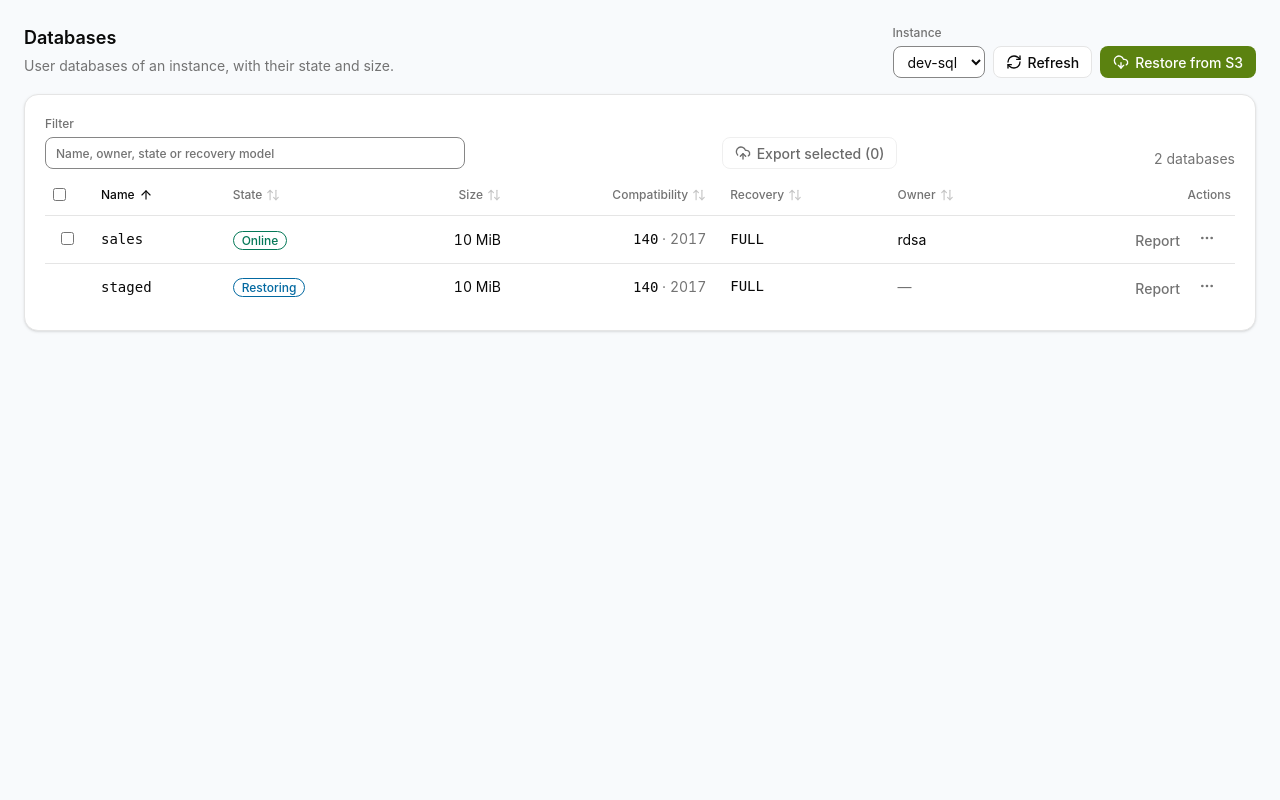
it: DatabasesPage actions › drops a database, then reloads the list and gives the focus back
Expected: the column heading "Actions" is shown, [1025,181,1235,215]
Click the button named "Actions for sales" at (1207, 238), box [1191,224,1223,252]
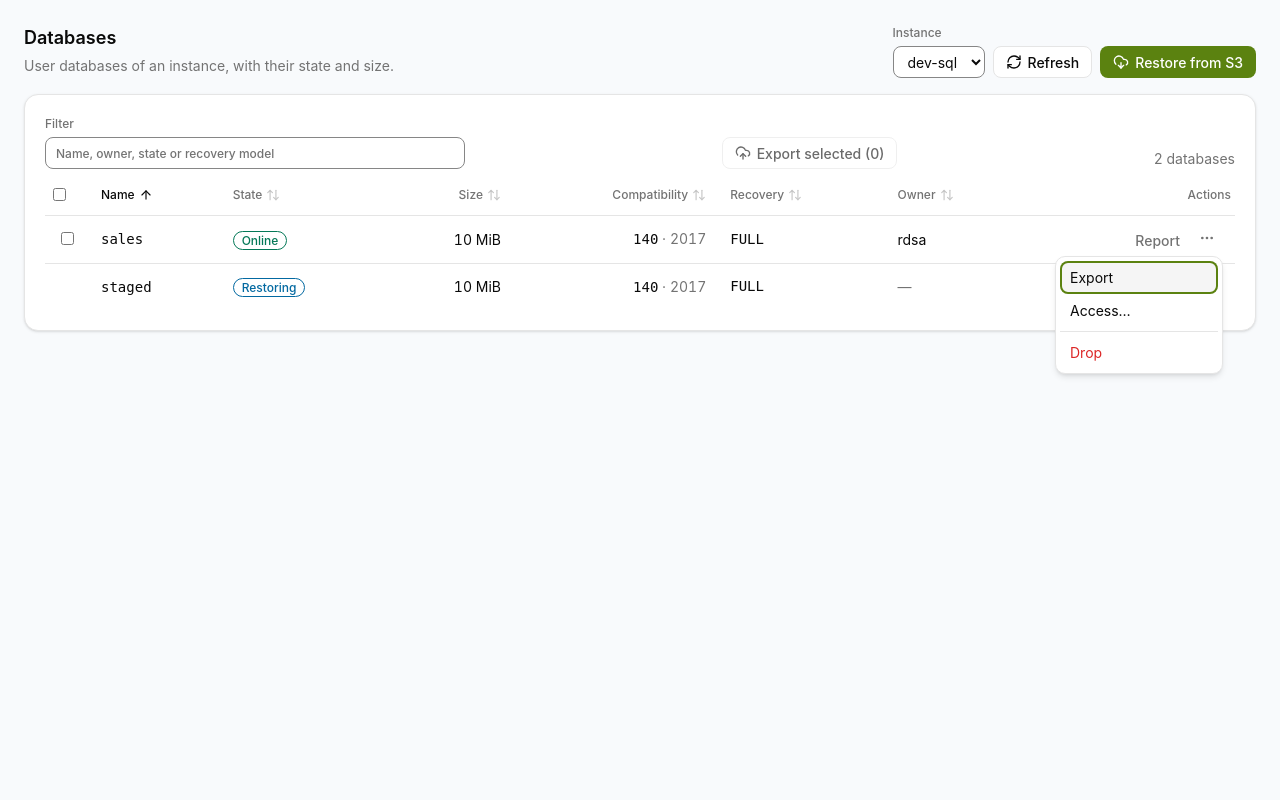
Now the menu is shown, box [1055,256,1223,374]
Click the menu item with aria-label "Drop sales" at (1139, 352), box [1060,336,1218,369]
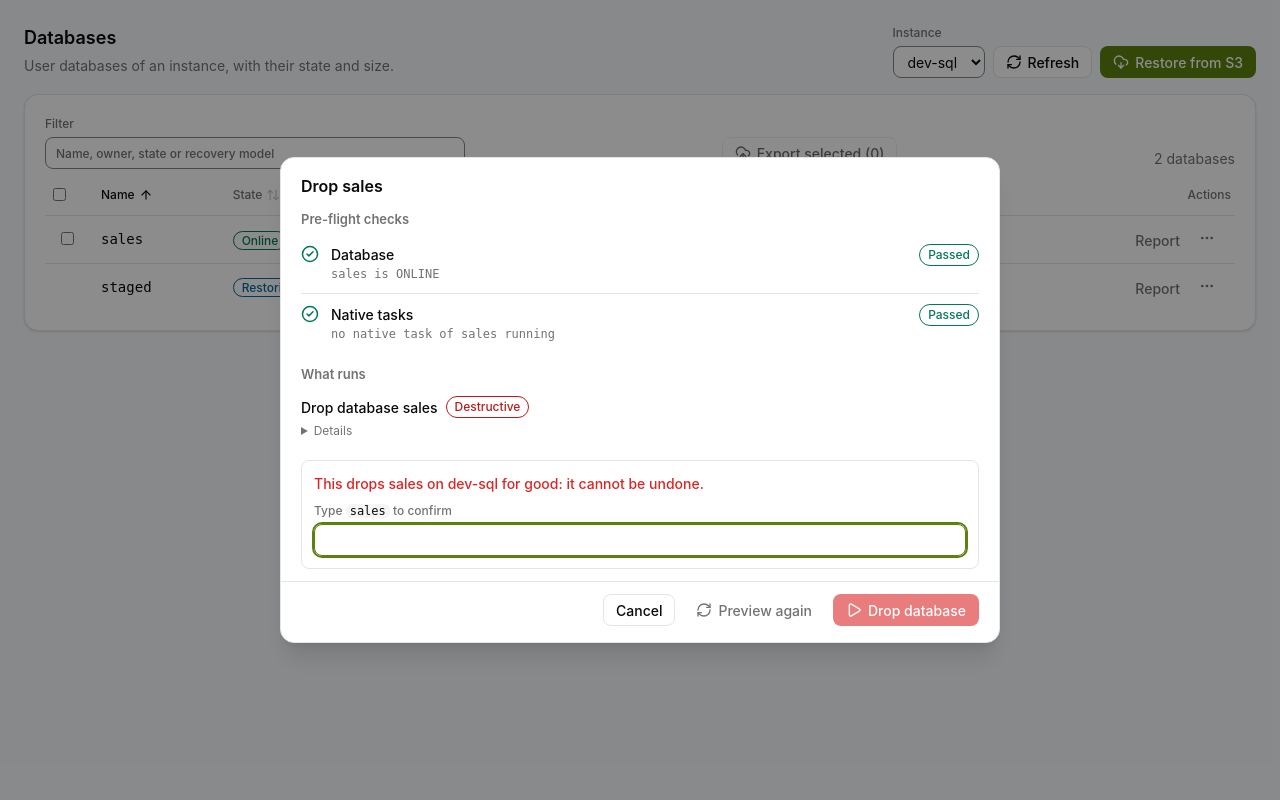
Type "sales" into the field labelled "Type sales to confirm" at (640, 540), box [314,524,966,556]
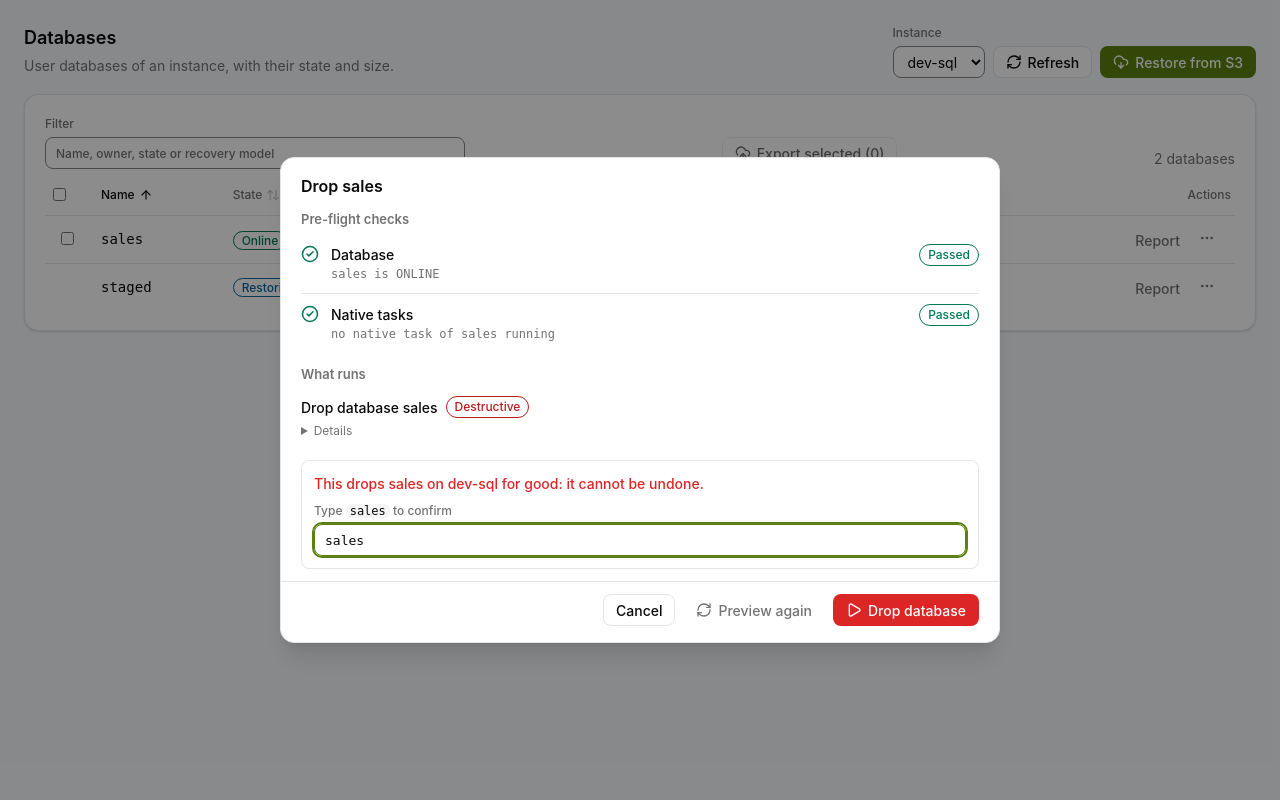
Click the button "Drop database" at (906, 610), box [833,594,979,626]
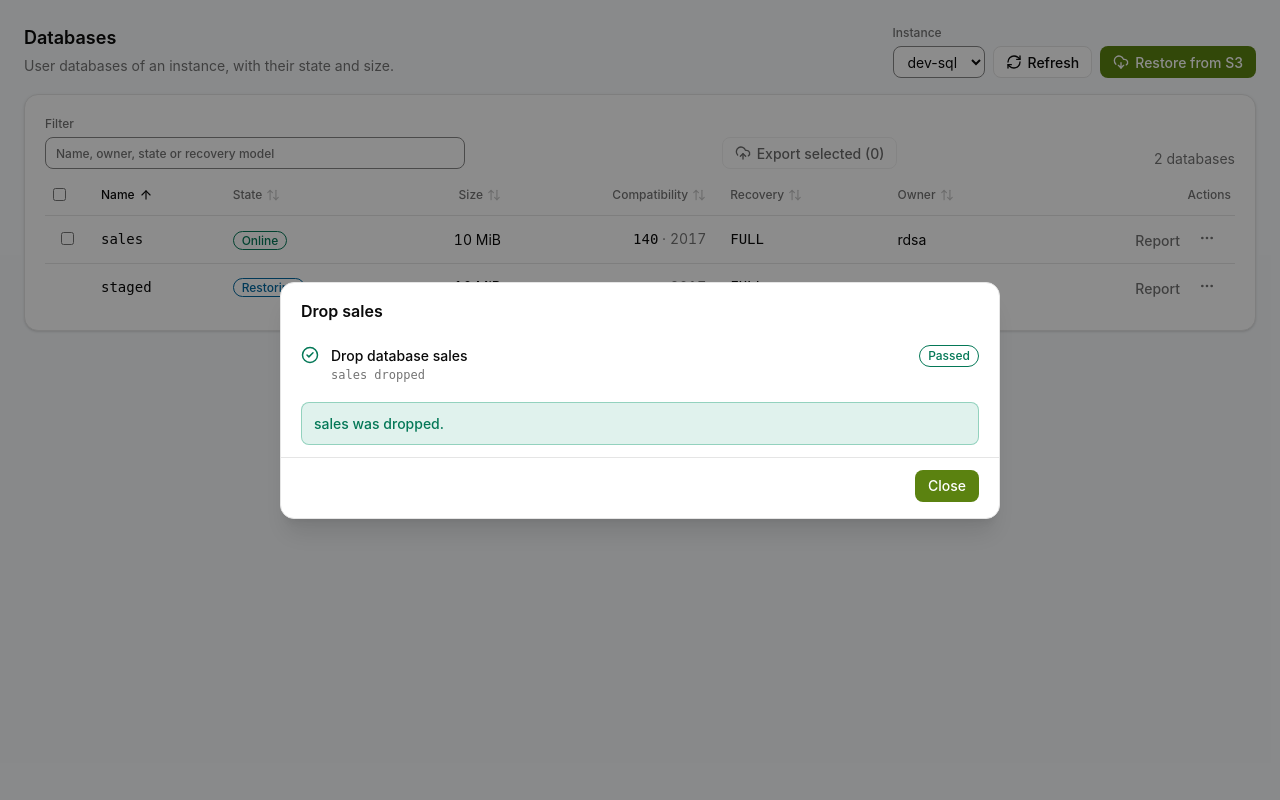
Now the text "sales was dropped." is shown, box [314,414,444,432]
Click the button "Close" at (947, 486), box [915,470,979,502]
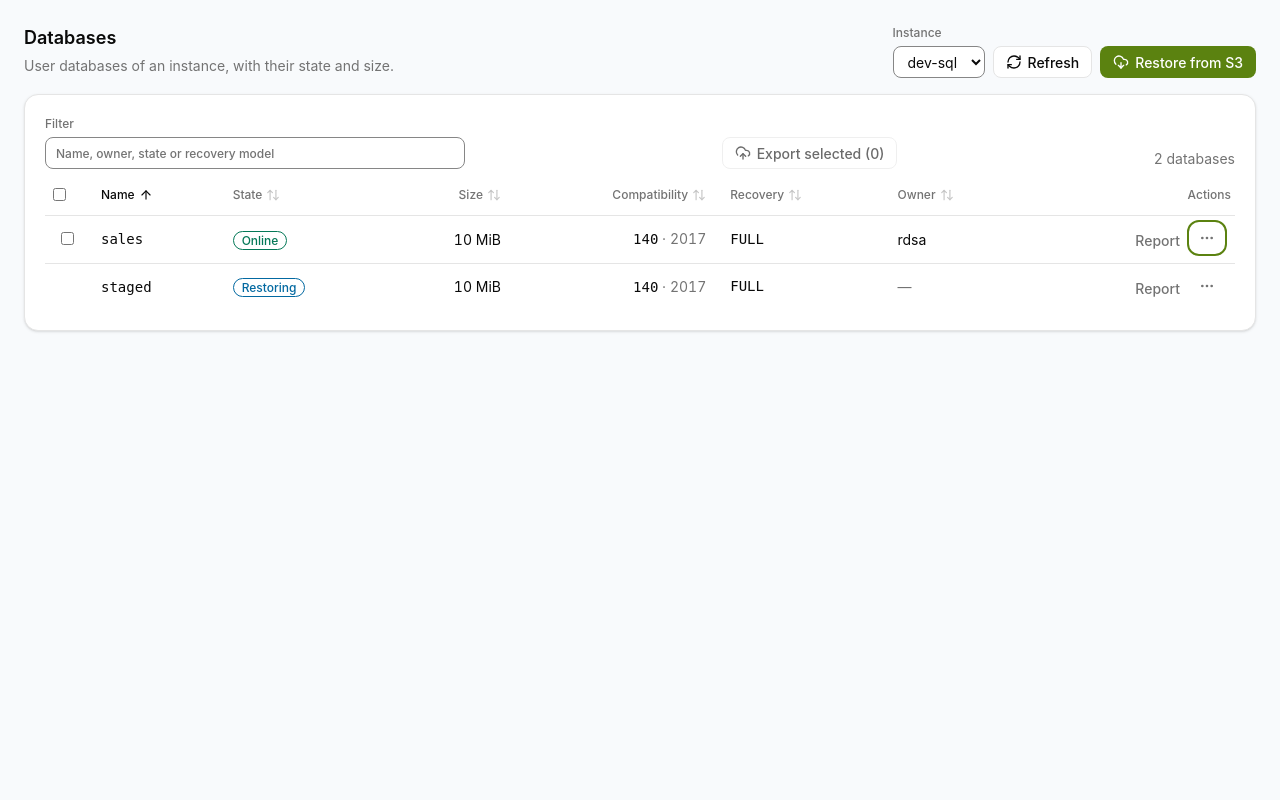
Now the dialog is gone
